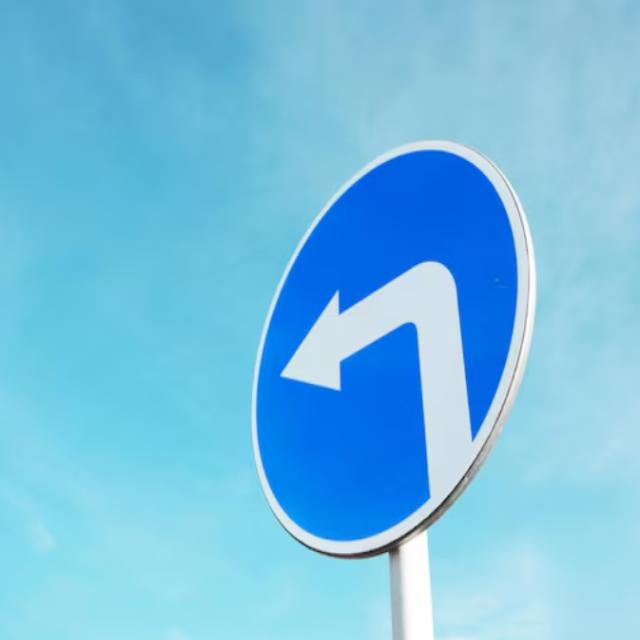LEFT: (254, 144, 534, 555)
